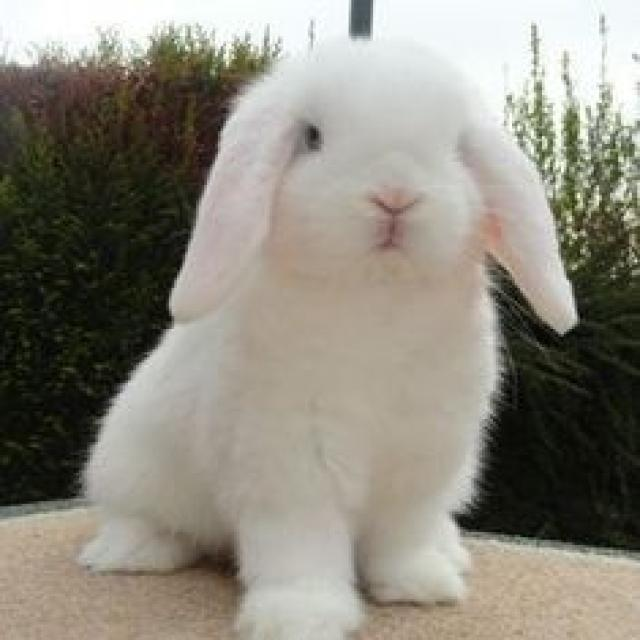Herbivorous: (76, 36, 580, 640)
